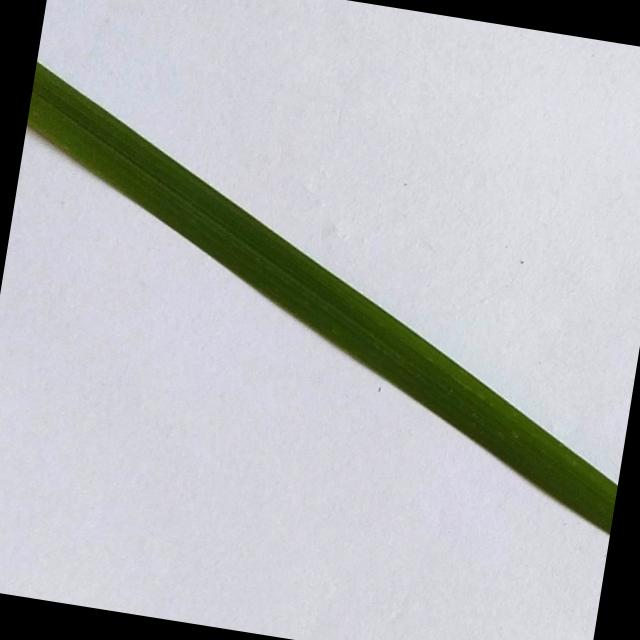Rice_Healthy: (27, 62, 617, 534)
